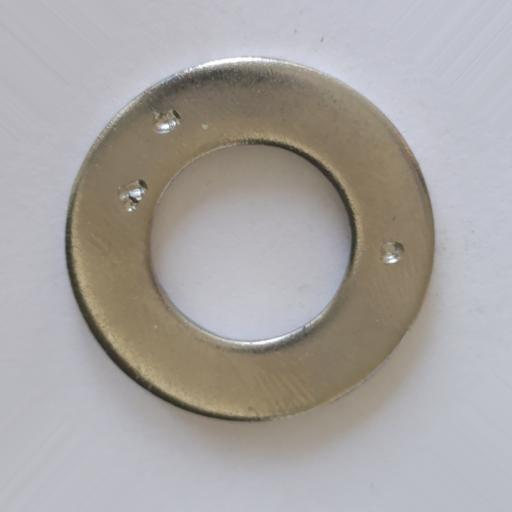circular_cavity: (119, 178, 150, 210), (153, 108, 182, 133), (379, 242, 403, 264)
